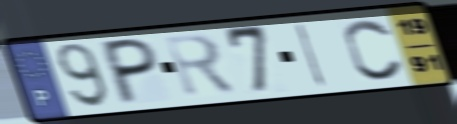7: (220, 24, 274, 98)
9: (53, 41, 112, 109)
C: (342, 17, 407, 83)
I: (293, 20, 329, 89)
P: (101, 35, 159, 108)
R: (161, 31, 241, 101)
